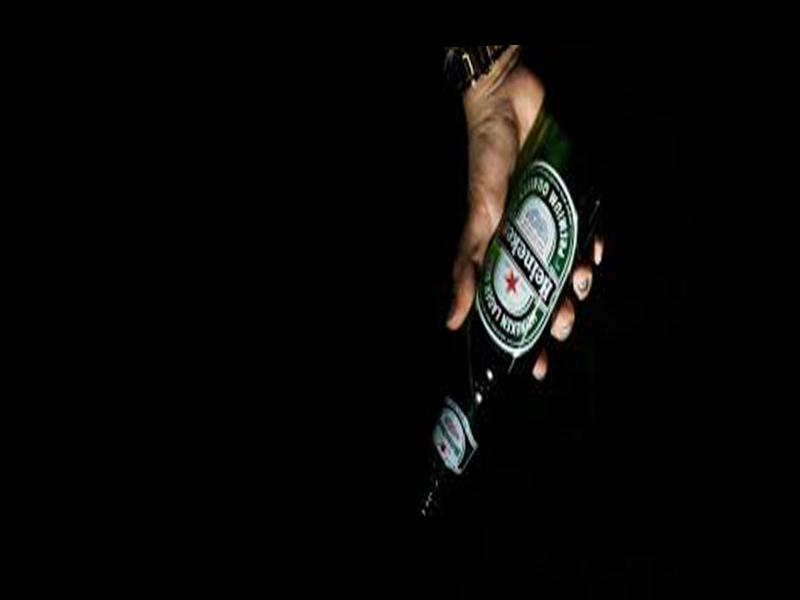Beer: (399, 93, 618, 533)
